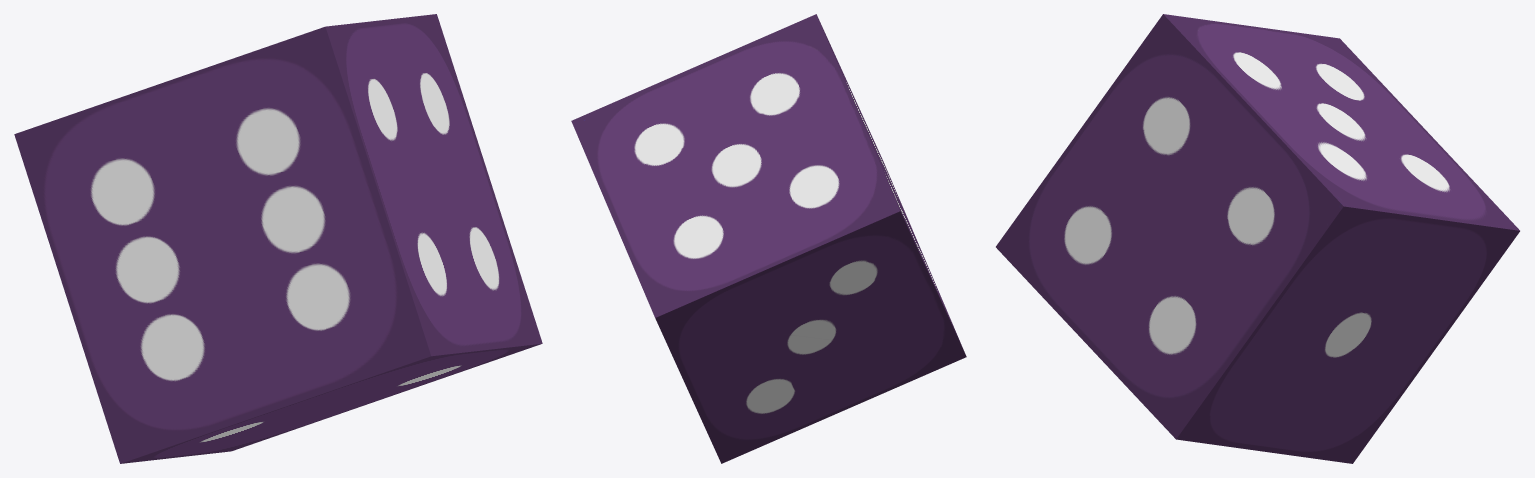
Rendered from dice.glb.
3 renders of one model, left to right at view 1: azimuth 30°, elevation 25°; view 2: azimuth 150°, elevation 25°; view 3: azimuth 270°, elevation 25°, orthographic. The views are drawn at different scales.
Parts seen in each view (by area): view 1: mesh_id35; view 2: mesh_id35; view 3: mesh_id35.
Boxes of the visible parts, box(x1,y1,x2,y2) form: mesh_id35: box(14, 14, 542, 463); mesh_id35: box(571, 14, 966, 463); mesh_id35: box(996, 14, 1519, 463).
Bounding box in the file's own units: 0.2893 × 0.3229 × 0.3462.
1 material, 1 textured.
